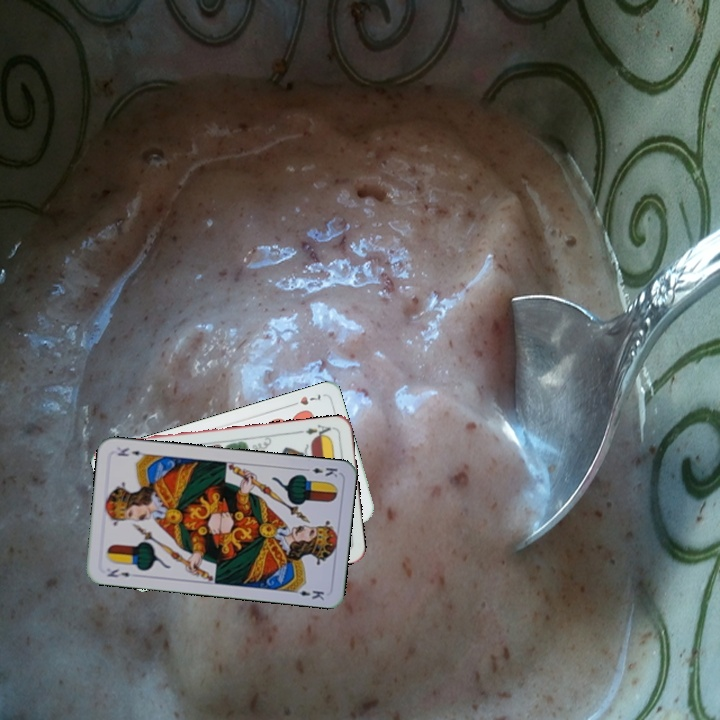EA: (296, 421, 336, 441)
EK: (300, 463, 340, 479), (103, 565, 132, 580)
H7: (285, 390, 323, 409)
